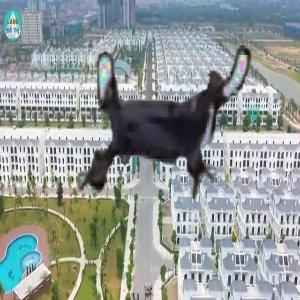drone: (68, 25, 261, 218)
